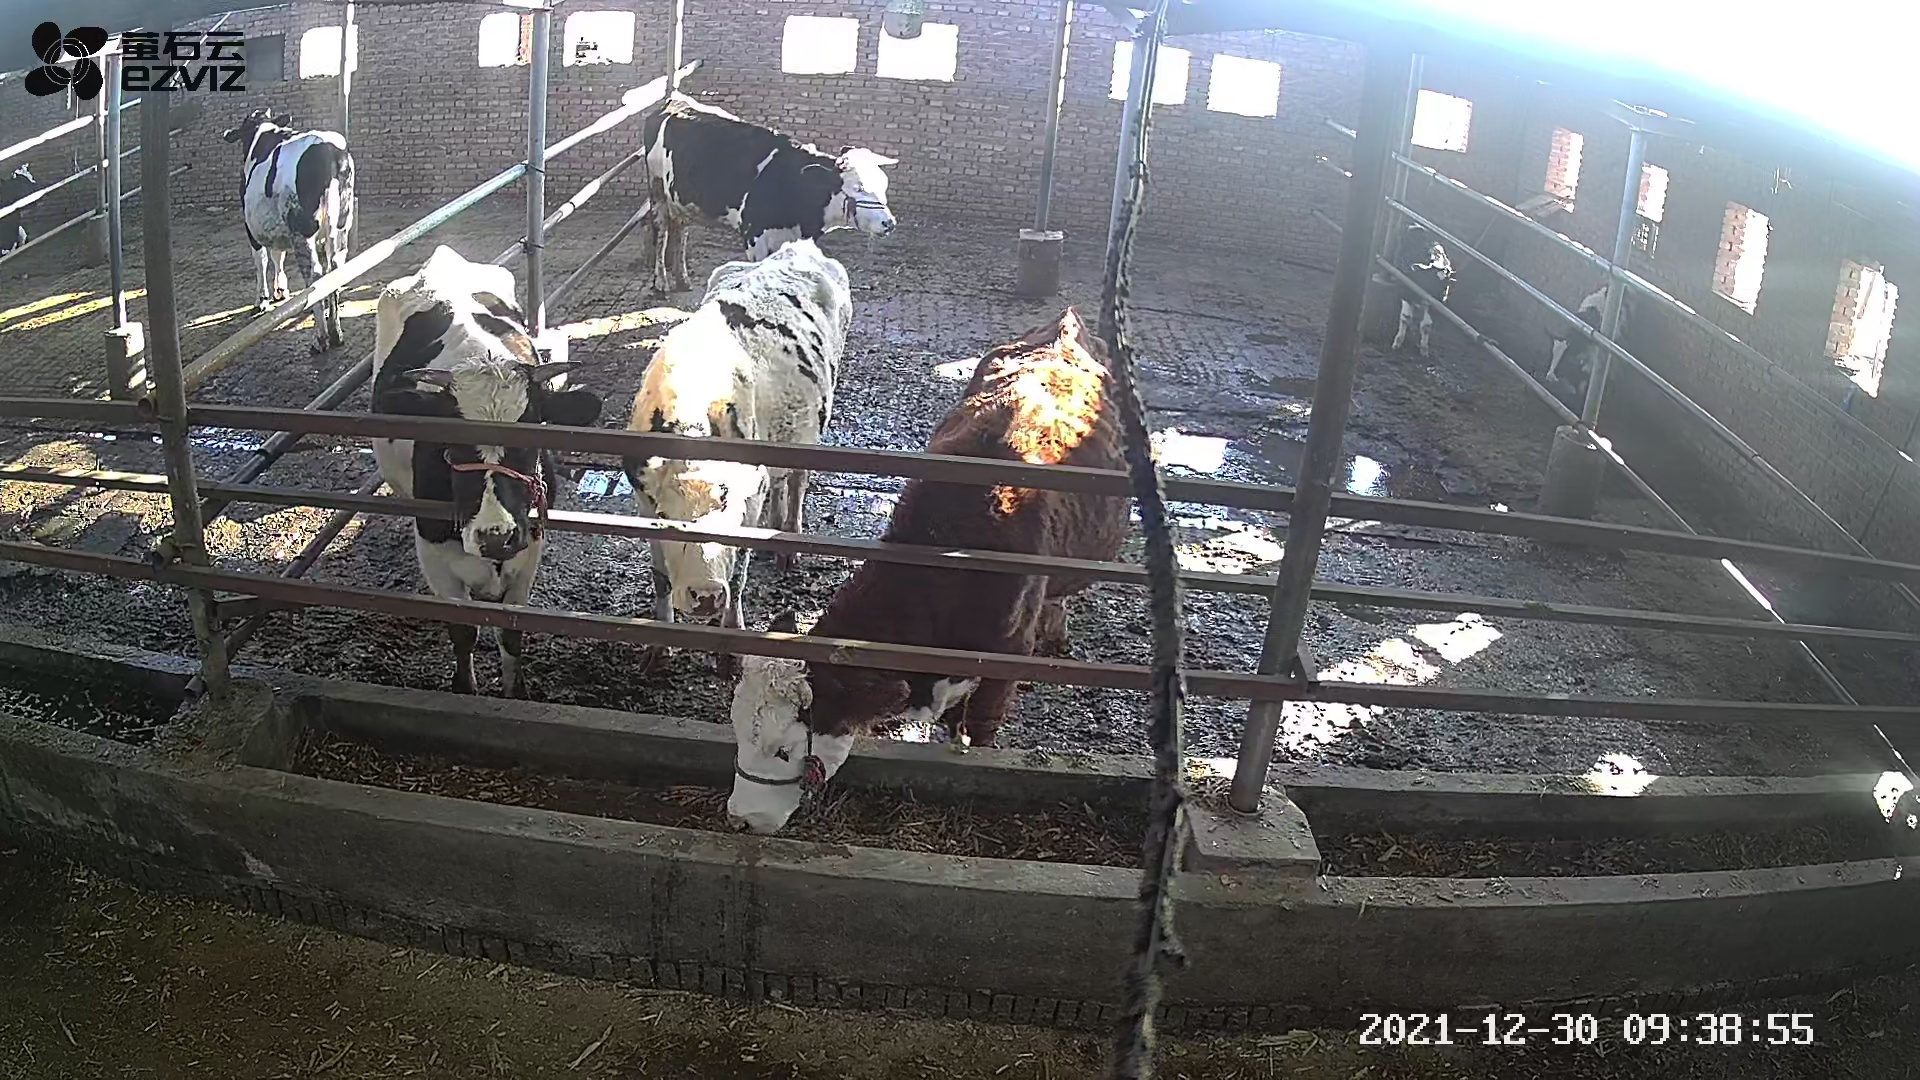cow: (723, 303, 1133, 837), (367, 243, 603, 702), (618, 237, 853, 680), (642, 90, 901, 297)
